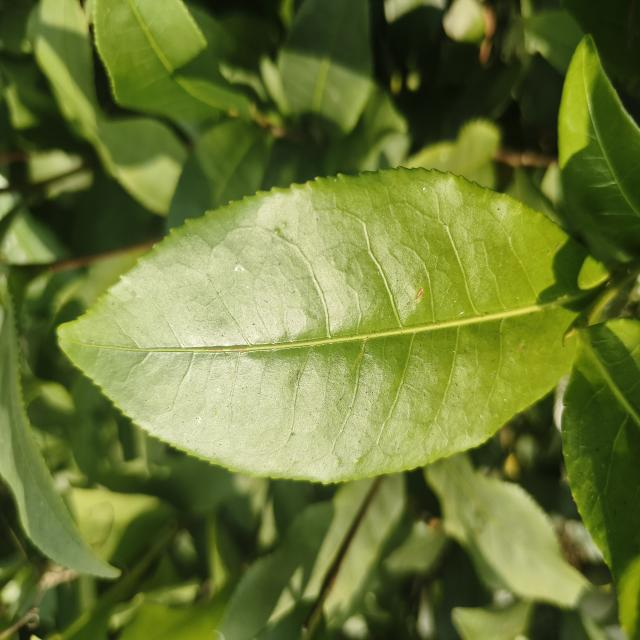Leaf: (58, 169, 591, 482), (0, 274, 118, 578), (29, 0, 186, 214), (218, 473, 405, 640), (424, 453, 588, 607), (562, 319, 640, 640), (93, 0, 251, 121), (558, 35, 640, 262), (278, 0, 373, 132), (167, 120, 273, 229), (403, 119, 500, 189), (522, 11, 583, 74)
